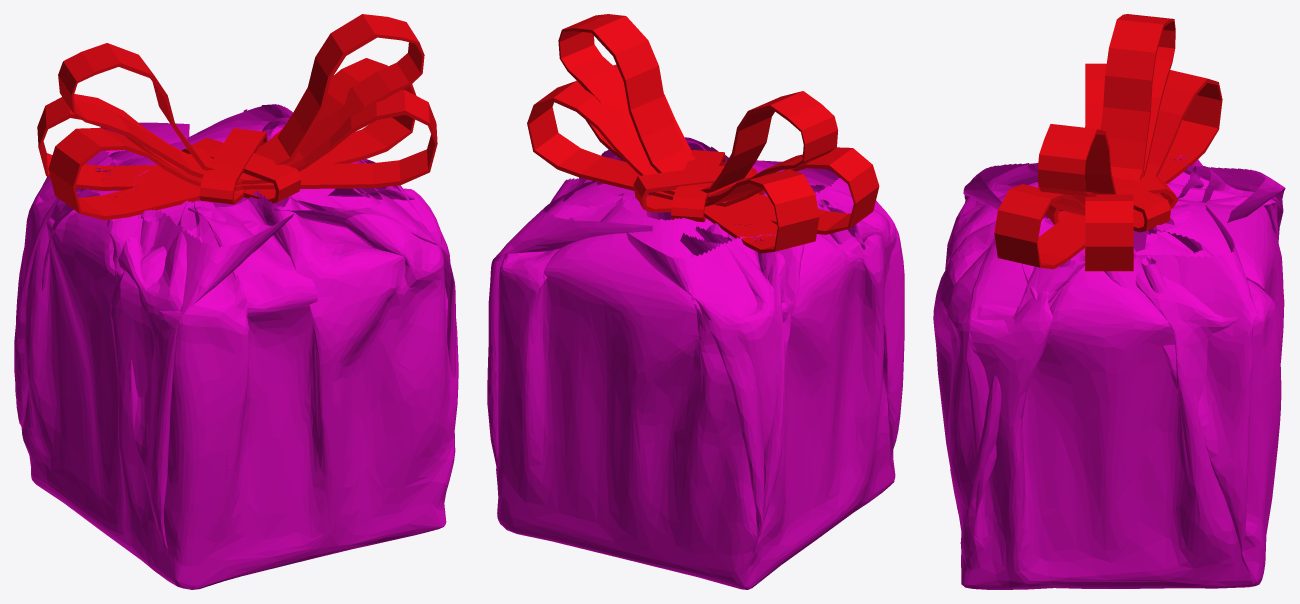
Rendered from boxes(1).fbx.
3 renders of one model, left to right at view 1: azimuth 30°, elevation 25°; view 2: azimuth 150°, elevation 25°; view 3: azimuth 270°, elevation 25°, orthographic. The views are drawn at different scales.
Visible parts, largest first — view 1: Plane; view 2: Plane; view 3: Plane.
Part boxes in pixels (x1,y1,x2,y2): Plane: (14, 14, 458, 589); Plane: (487, 14, 904, 589); Plane: (933, 14, 1285, 589).
Size of the model in its own units: 163 by 213 by 148.
